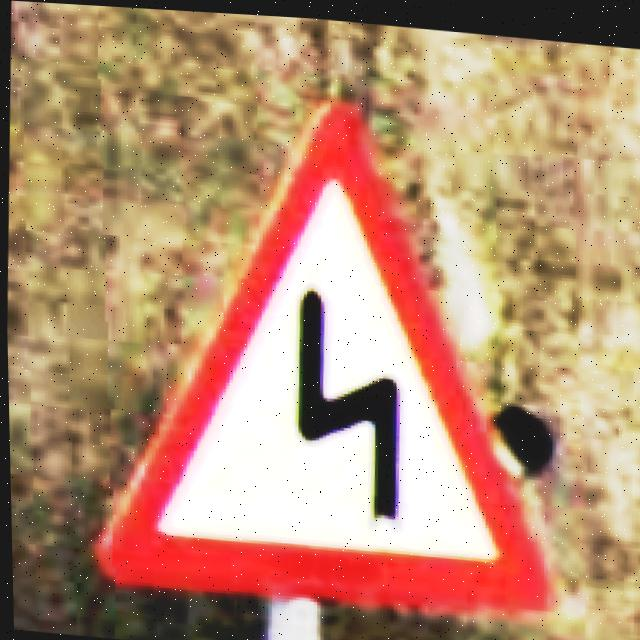doublebendleft: (95, 99, 554, 607)
